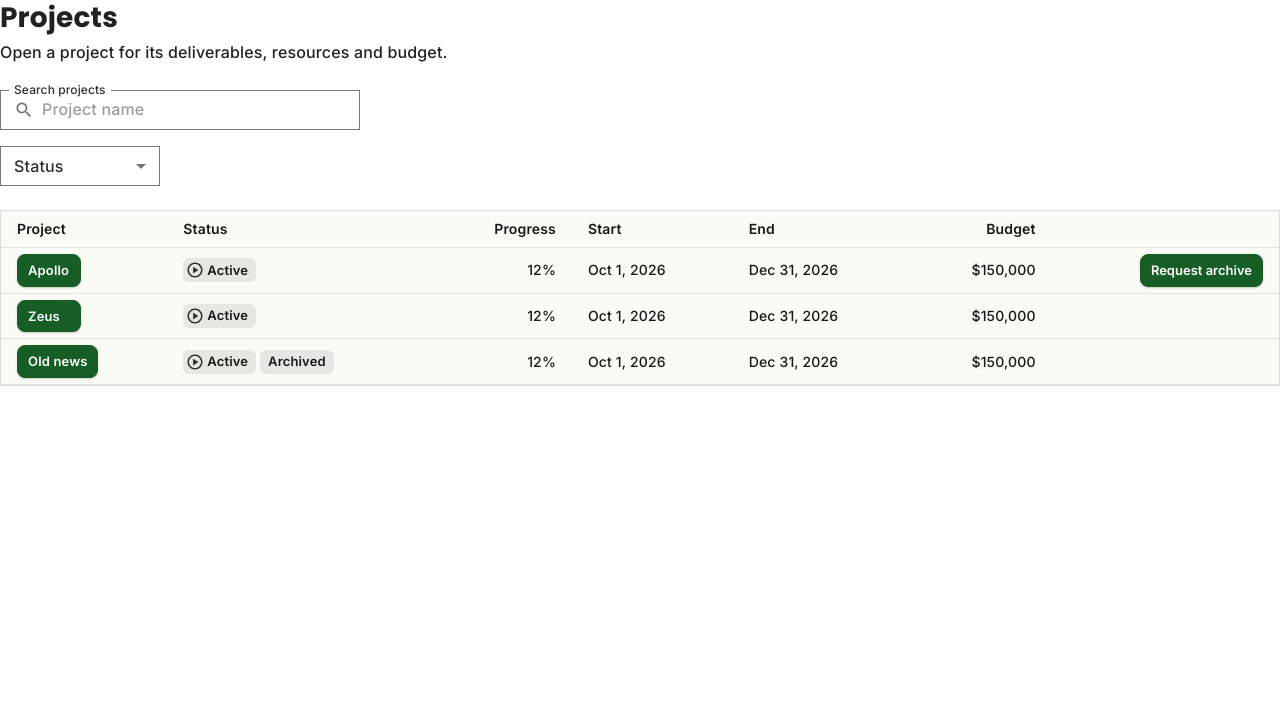
Test: ProjectsPage › archiving from the list › shows the server's refusal inside the dialog
Check: the link "Apollo" is shown, box top-left (17, 254), bottom-right (81, 287)
Click the button with aria-label "Request archive for Apollo" at (1201, 270), box top-left (1140, 254), bottom-right (1263, 287)
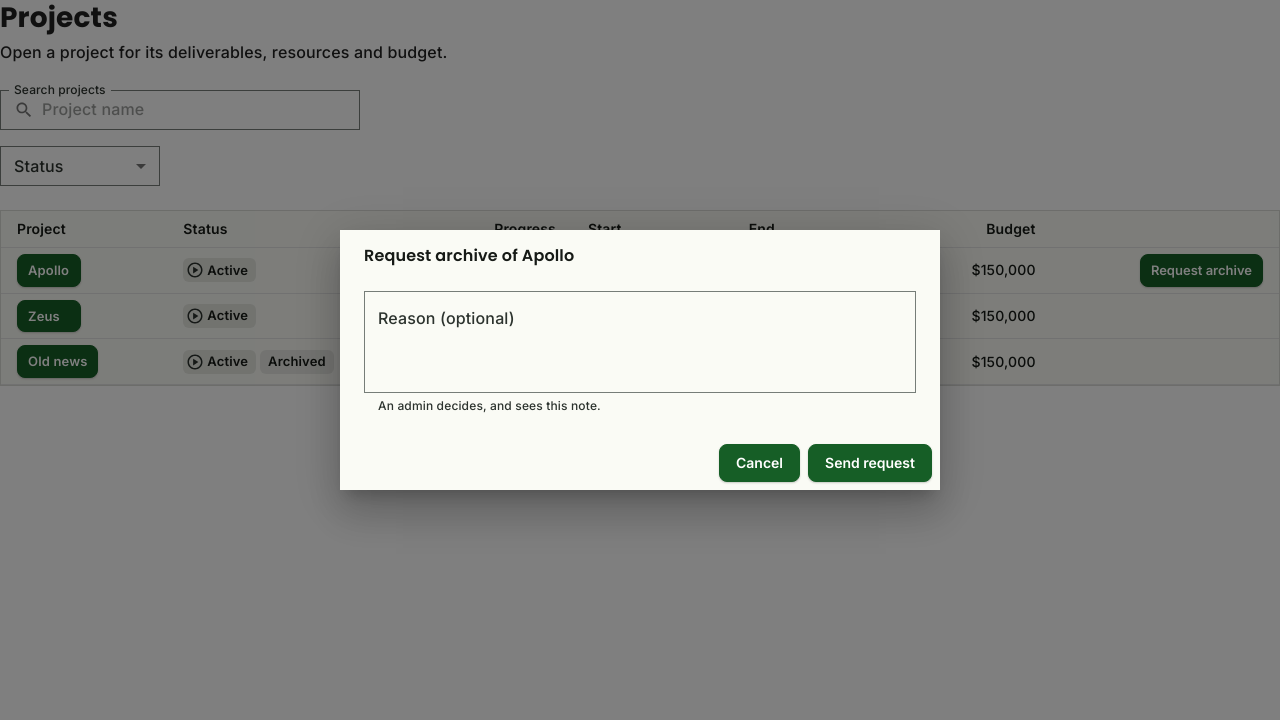
Click the button "Send request" at (870, 463), box top-left (808, 444), bottom-right (932, 482)
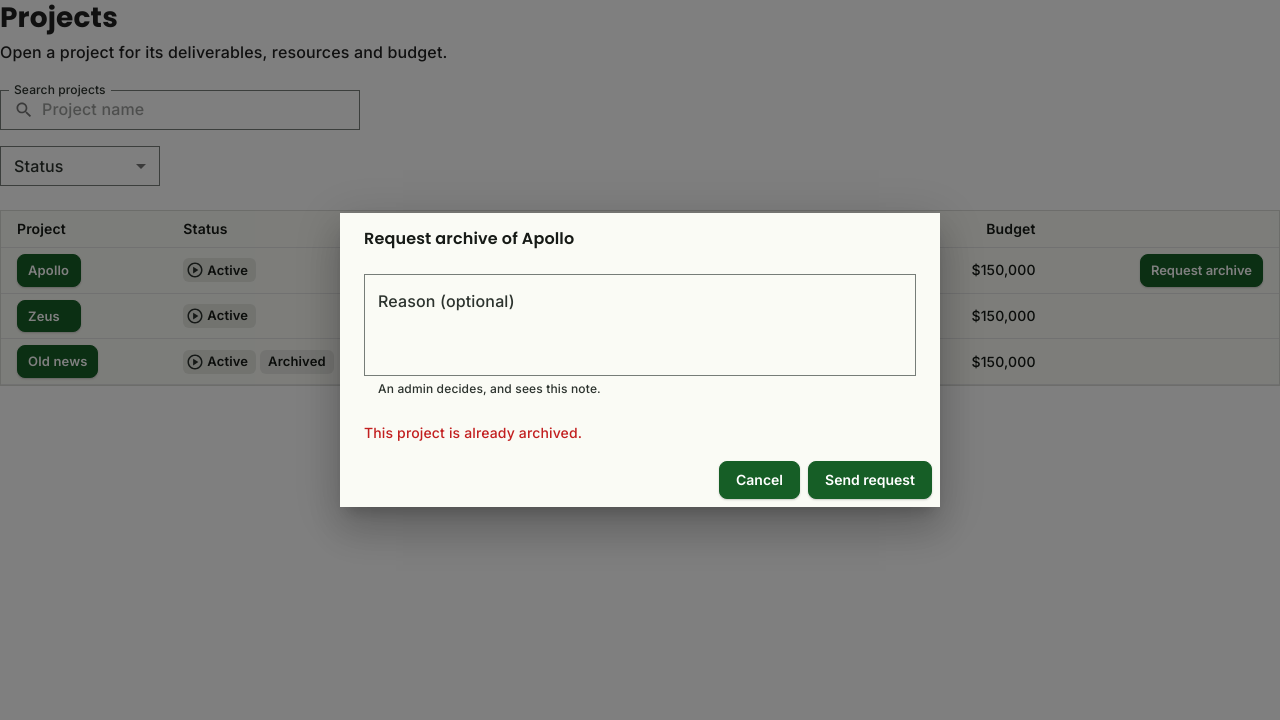
Check: the text "This project is already archived." is shown, box top-left (364, 424), bottom-right (582, 442)
